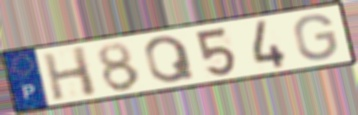4: (251, 17, 289, 71)
5: (192, 24, 239, 77)
8: (96, 41, 143, 93)
G: (292, 13, 340, 62)
H: (40, 44, 100, 103)
Q: (142, 34, 198, 85)
